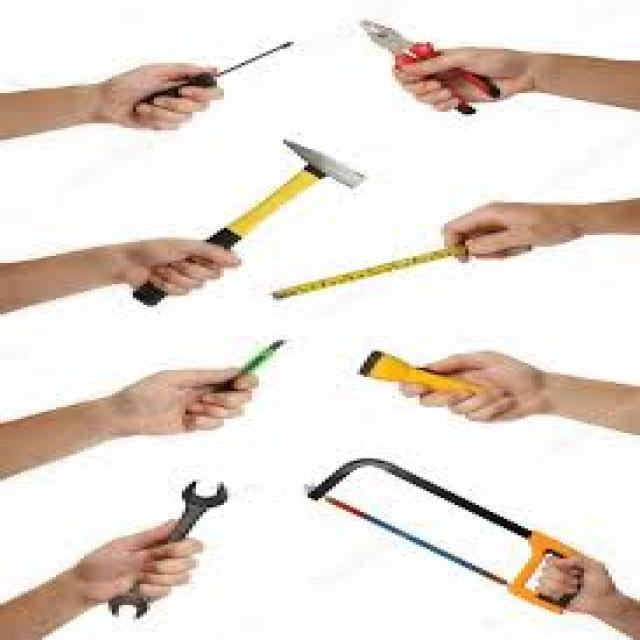screwdriver: (130, 30, 298, 126)
